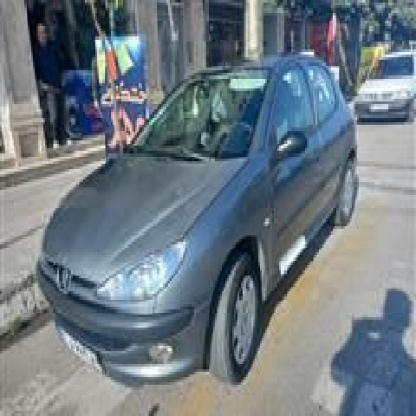Car: (37, 54, 361, 384), (359, 50, 416, 122)
